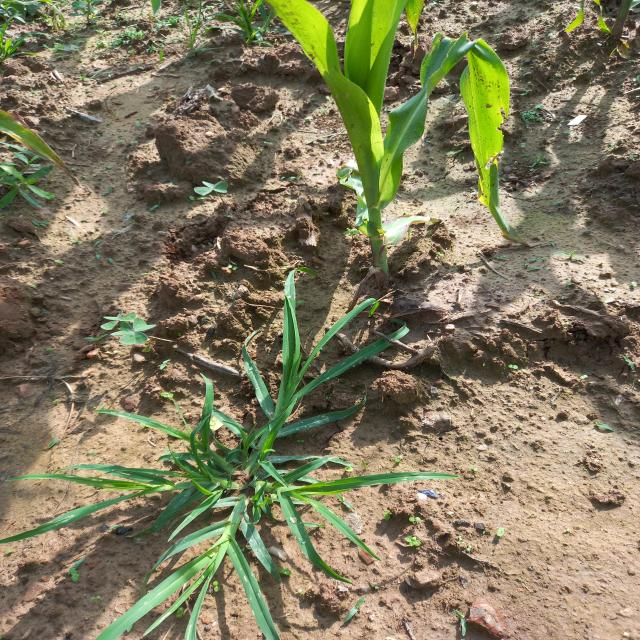maize: (256, 7, 538, 286)
weed: (60, 312, 422, 611), (0, 134, 100, 233)
